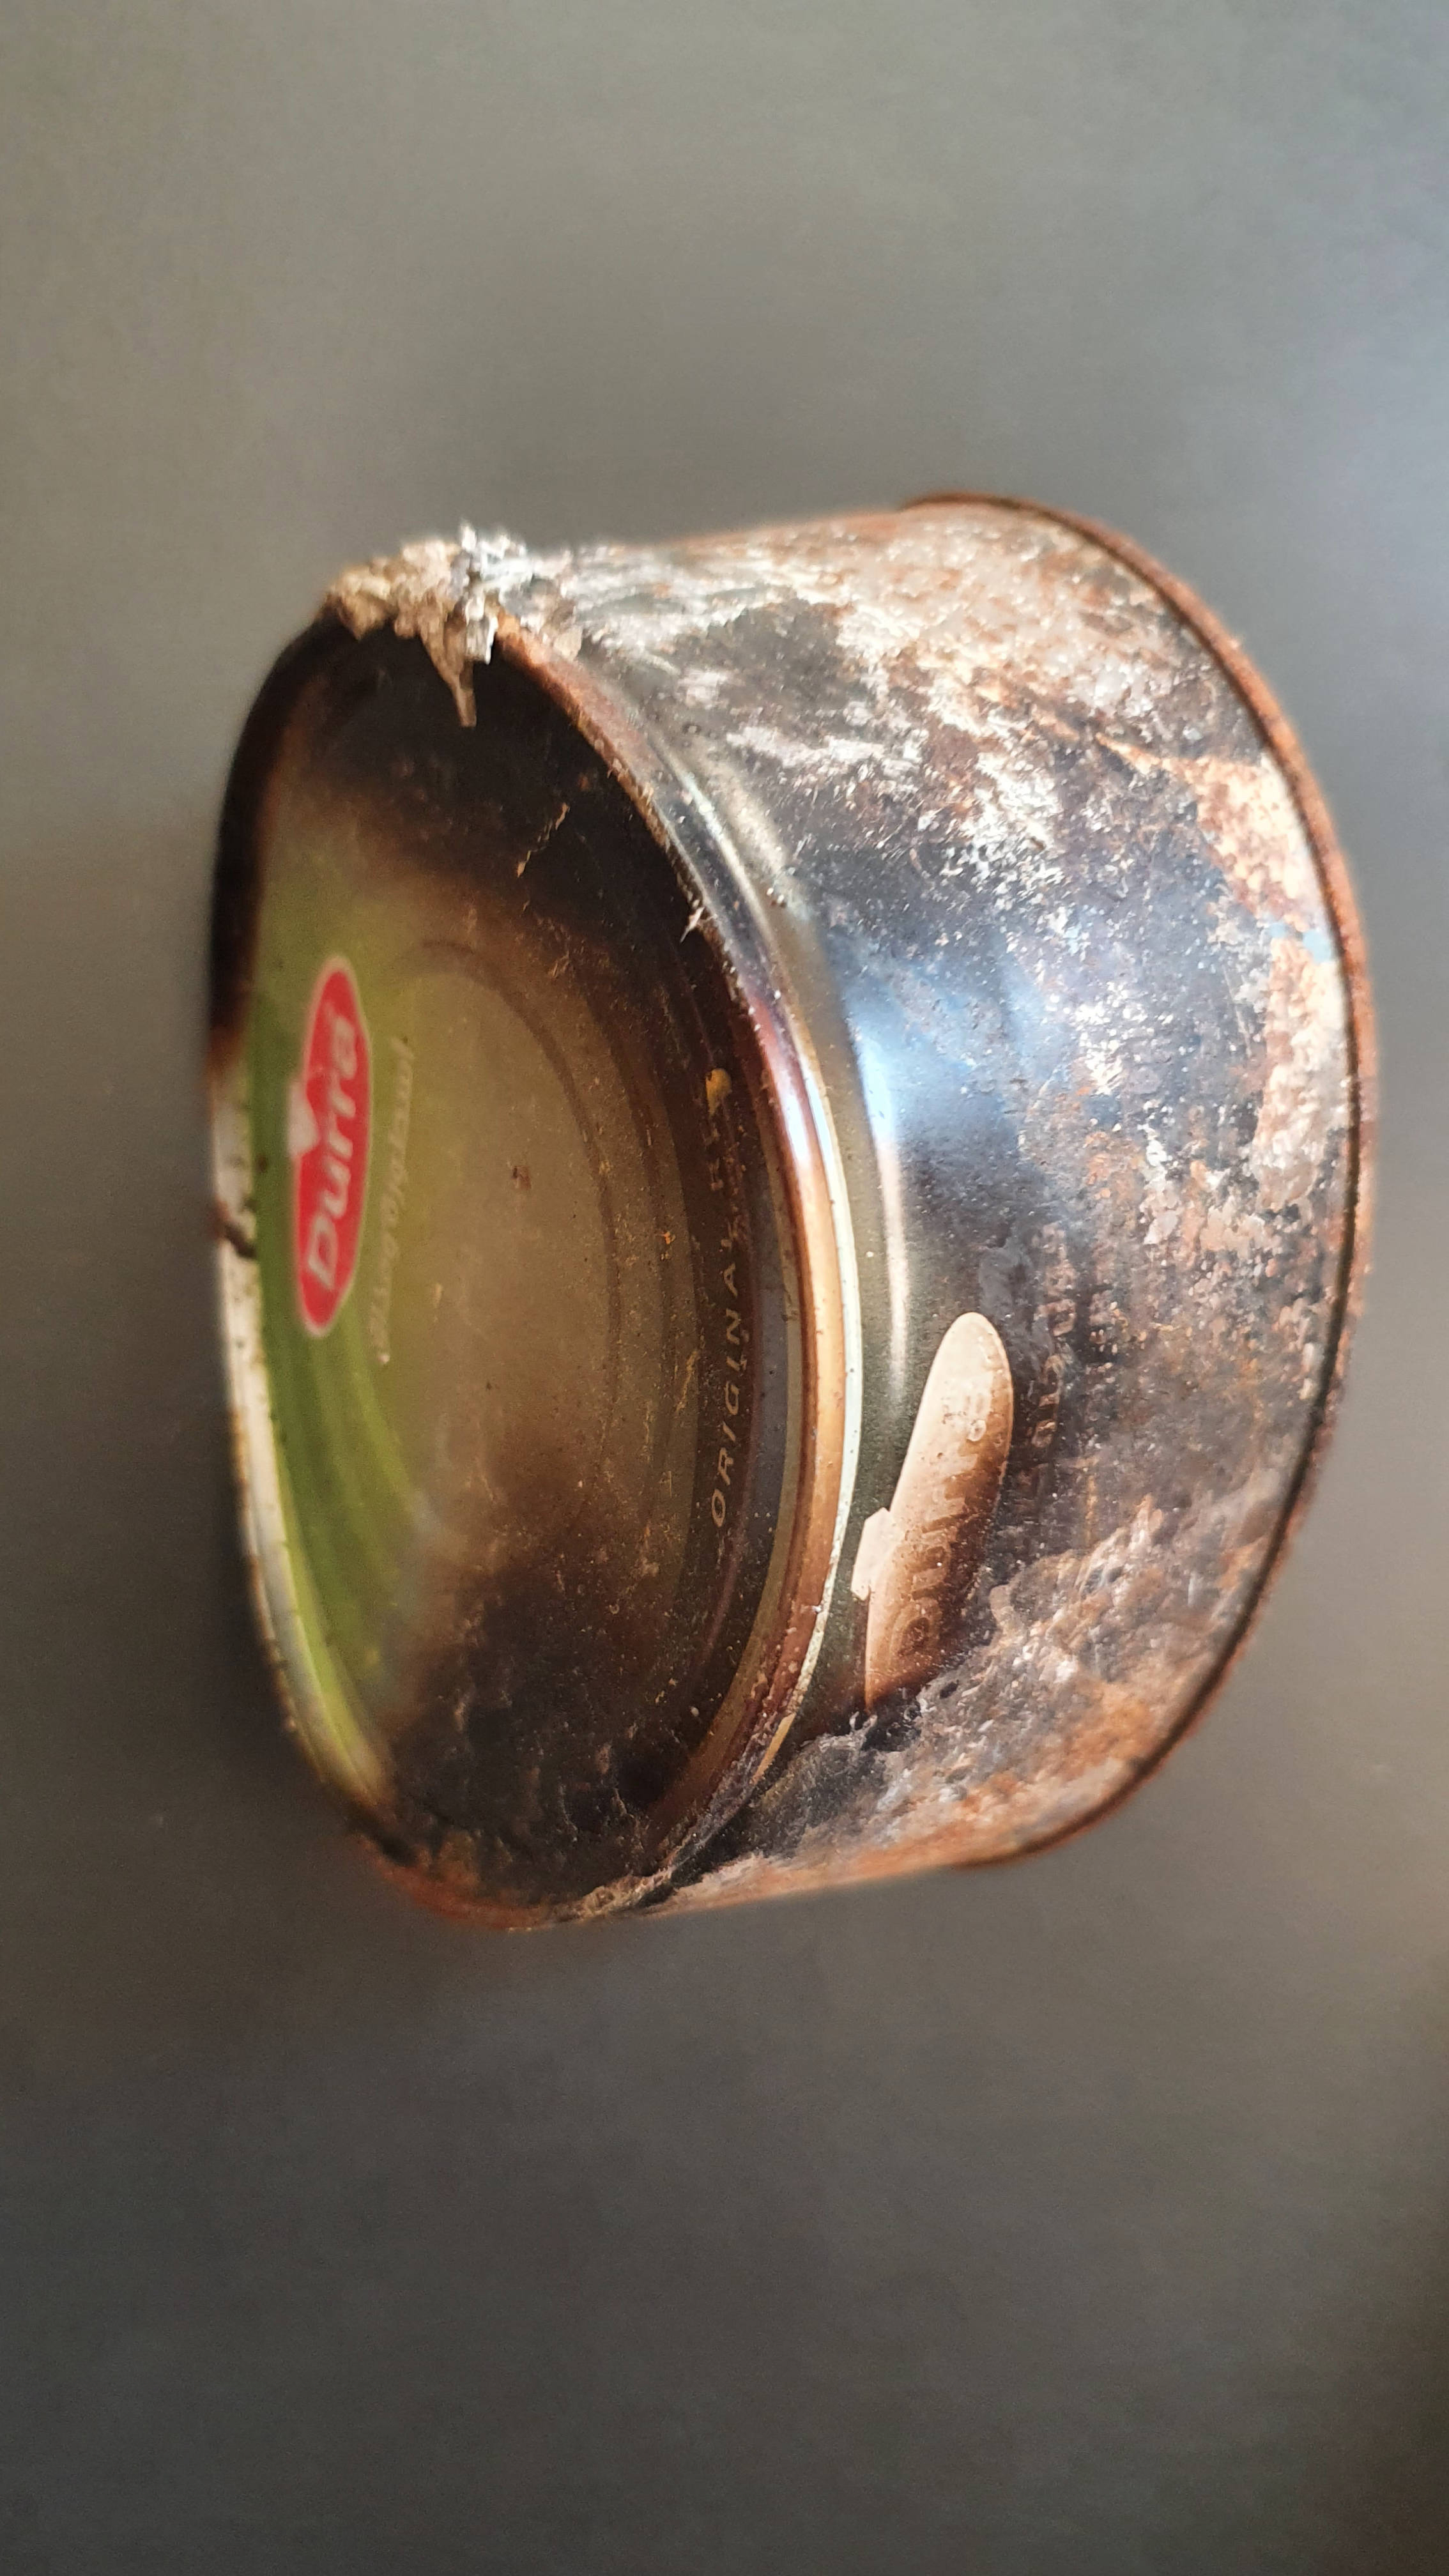metal: (161, 419, 1394, 2019)
